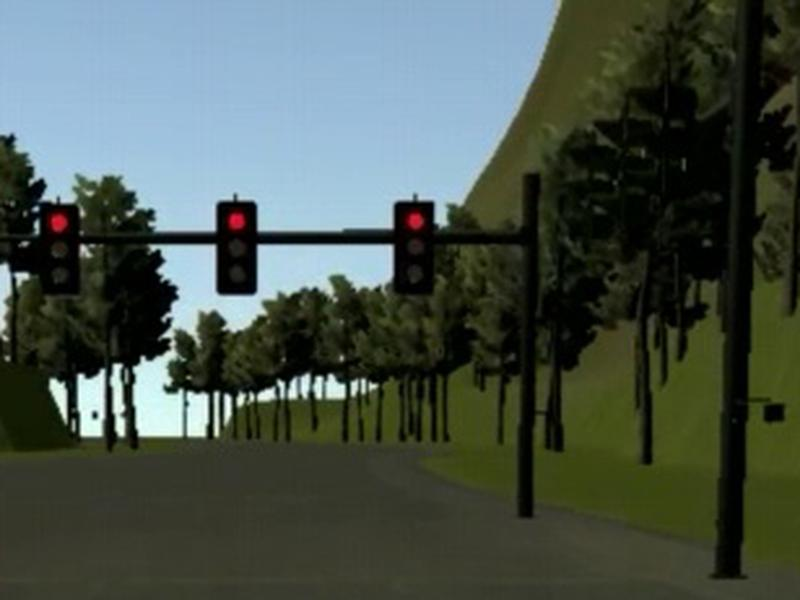Red: (215, 200, 257, 295), (393, 200, 435, 295), (40, 204, 80, 296)
